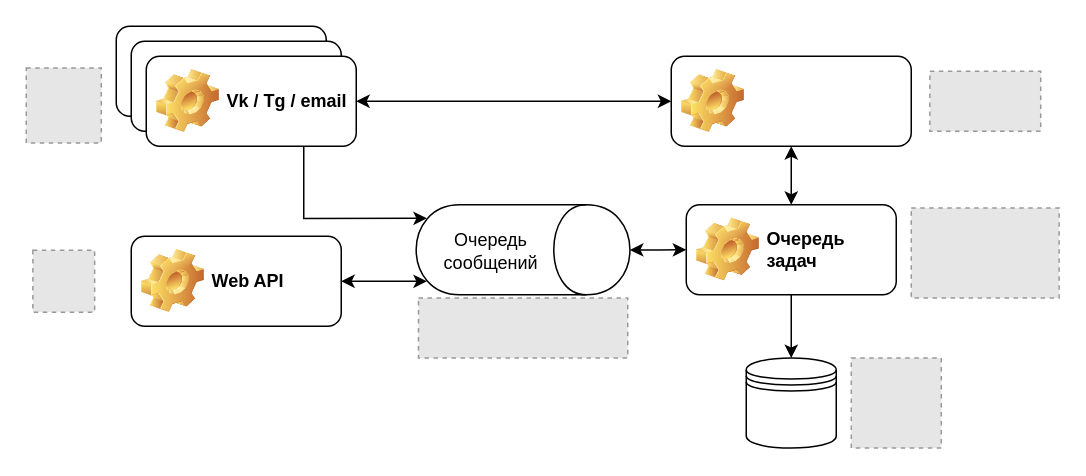
Image size: 1086x476. Some labels were removed from this diagram. Grey dashed boxes stand in for pictures. The shapes that lost their labels are listed below. From the top down, each one's centre as x and y in pixels, then its label:
(x=790, y=100): Модель МО
(x=790, y=402): СУБД
